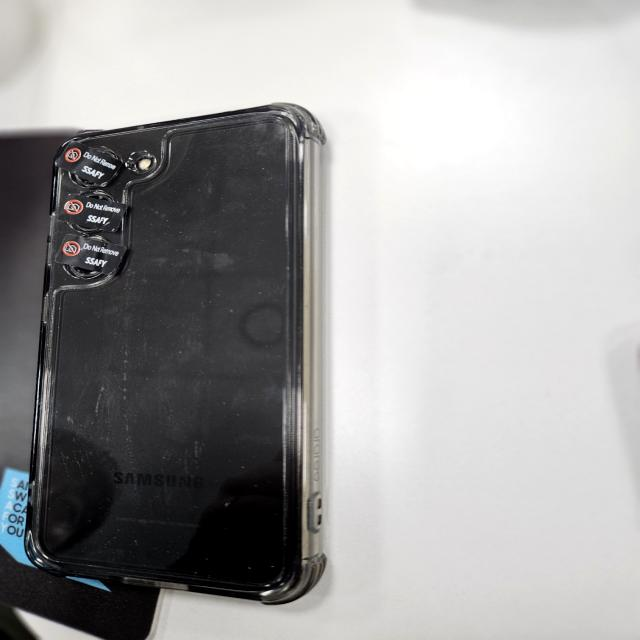phone: (27, 107, 328, 606)
sticker: (57, 191, 133, 238), (60, 139, 127, 189), (51, 238, 129, 277)
